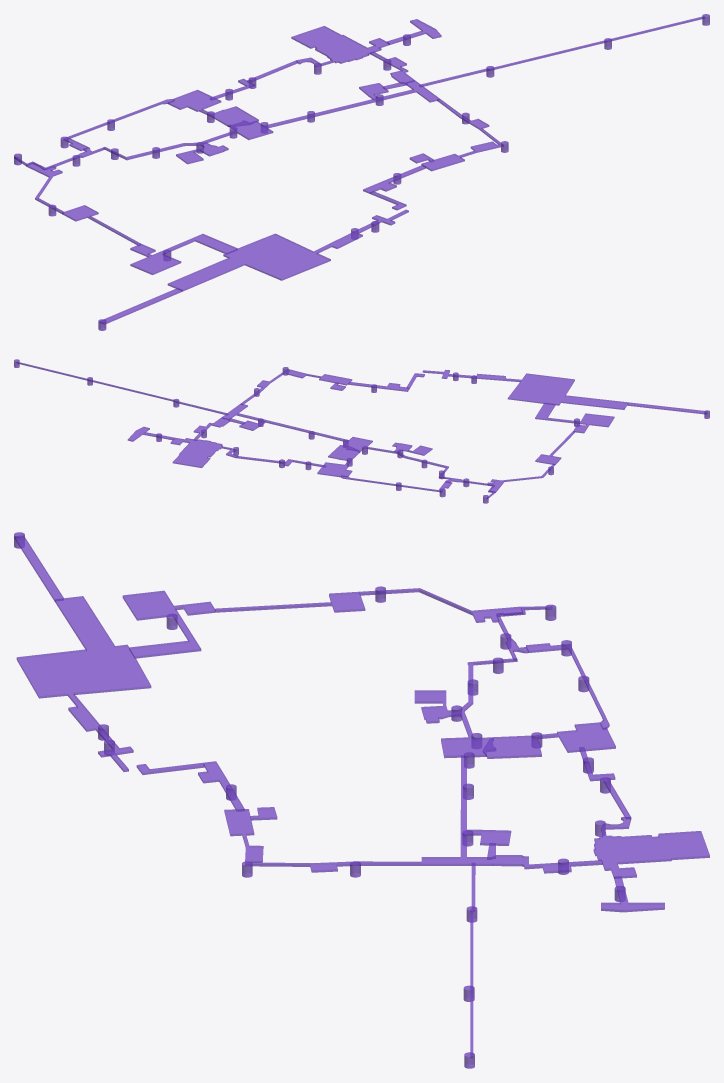
Rendered from layer2_project_Dom2.fbx.
3 renders of one model, top to bottom at view 1: azimuth 30°, elevation 25°; view 2: azimuth 150°, elevation 25°; view 3: azimuth 270°, elevation 25°, orthographic. The views are drawn at different scales.
Parts seen in each view (by area): view 1: dd_3D - PROJECT; view 2: dd_3D - PROJECT; view 3: dd_3D - PROJECT.
Part boxes in pixels (x1,y1,x2,y2): dd_3D - PROJECT: (14,14,709,330); dd_3D - PROJECT: (14,359,709,503); dd_3D - PROJECT: (14,532,709,1068).
Bounding box in the file's own units: 1431 × 15 × 802.
